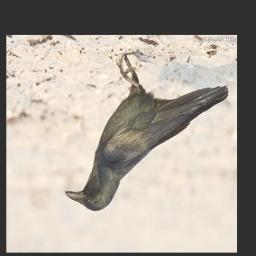Crow: (62, 54, 230, 213)
